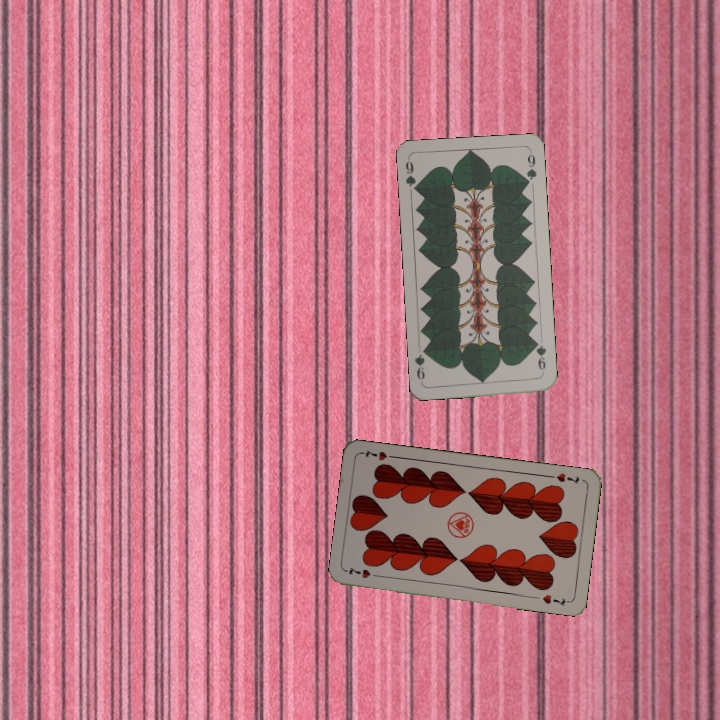G9: (401, 155, 421, 195), (531, 337, 549, 377)
H7: (343, 564, 384, 581), (545, 469, 582, 486)
